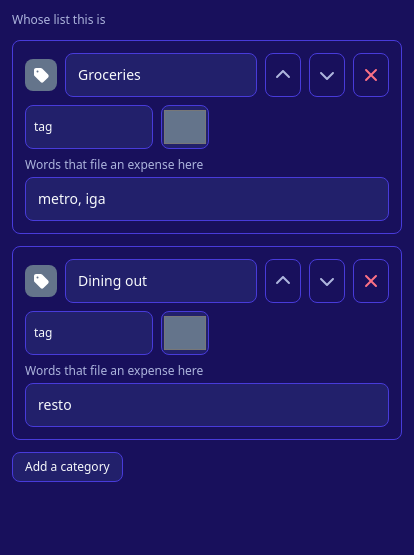
it: the category editor › says it is saving, and will not be pressed twice
Replace the text in the 1st field with test id "category-name" with "Epicerie" at (161, 75), box 65,53 -> 257,97
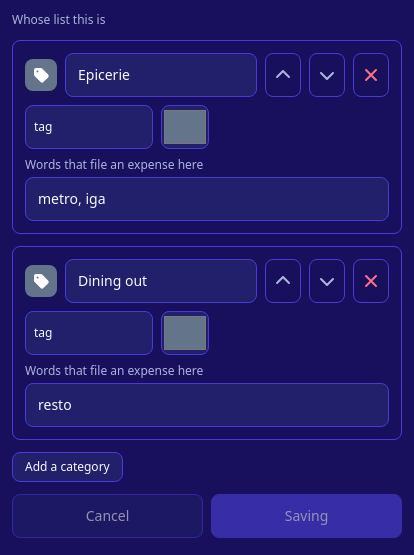
Expected: the button with test id "save-categories" is disabled, 211,494 -> 402,538
Expected: the button with test id "save-categories" reads "Saving", 211,494 -> 402,538
